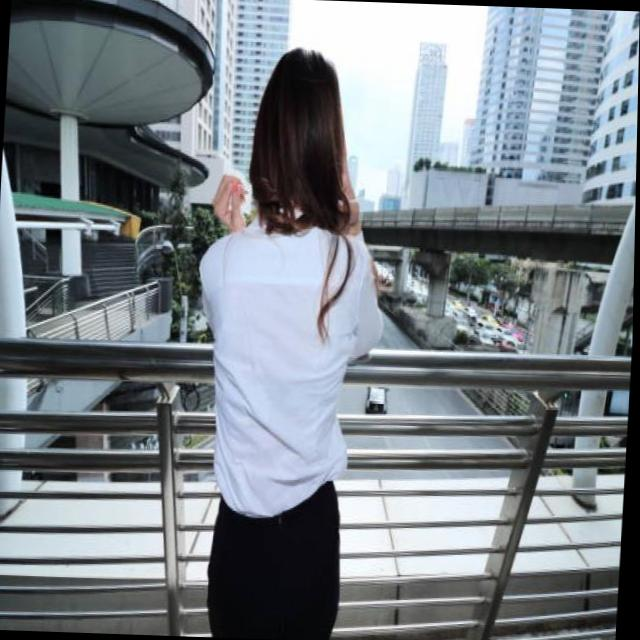no helmet: (251, 45, 354, 229)
